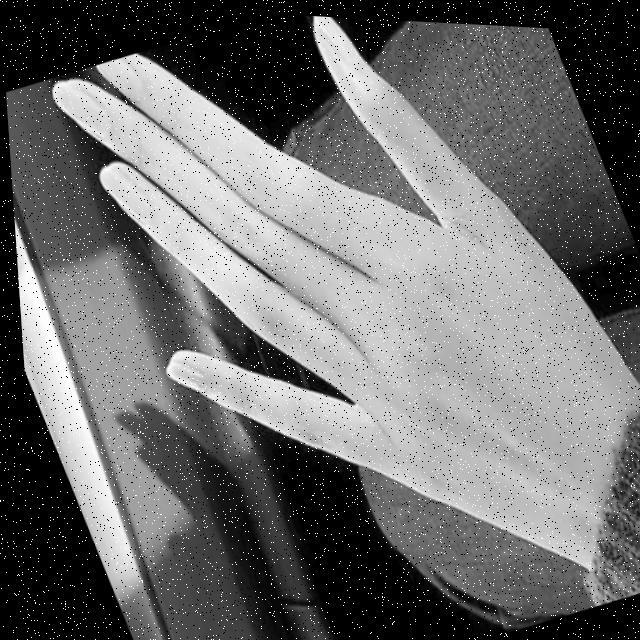no-gloves: (36, 1, 640, 640)
